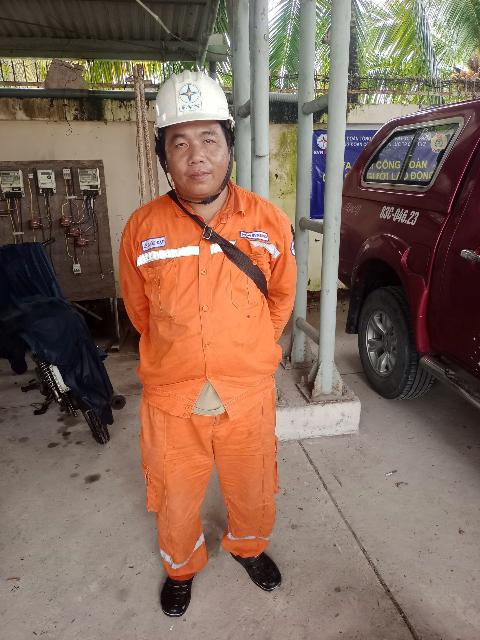helmet: (135, 63, 247, 139)
shoes: (232, 536, 289, 597), (155, 553, 200, 620)
